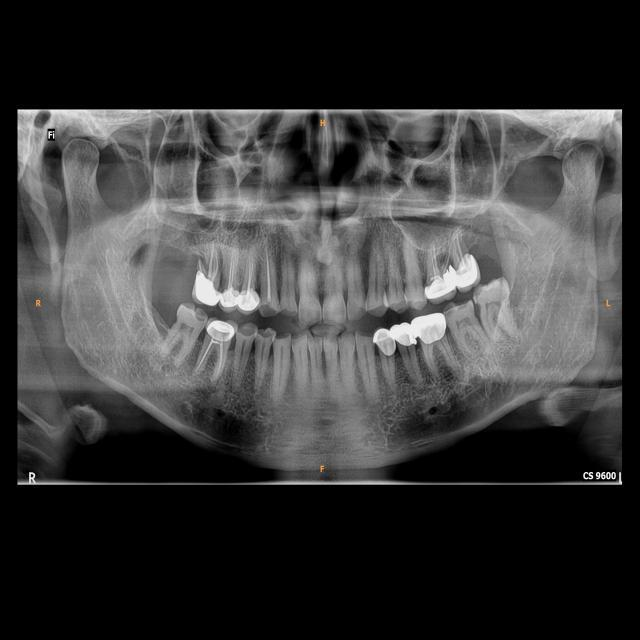dentin-curugu: (238, 323, 258, 339), (259, 326, 277, 343), (261, 303, 279, 320), (193, 306, 209, 324), (274, 330, 294, 344)
kanal-tedavisi: (196, 237, 219, 277), (426, 234, 445, 280), (259, 243, 275, 294), (223, 248, 240, 290), (446, 233, 466, 266), (244, 253, 257, 293)
kaplama: (410, 308, 450, 351), (421, 266, 462, 306), (450, 248, 484, 296), (390, 319, 422, 352), (372, 324, 400, 360), (194, 274, 218, 306), (208, 316, 233, 344), (238, 289, 261, 312), (220, 288, 242, 308)
